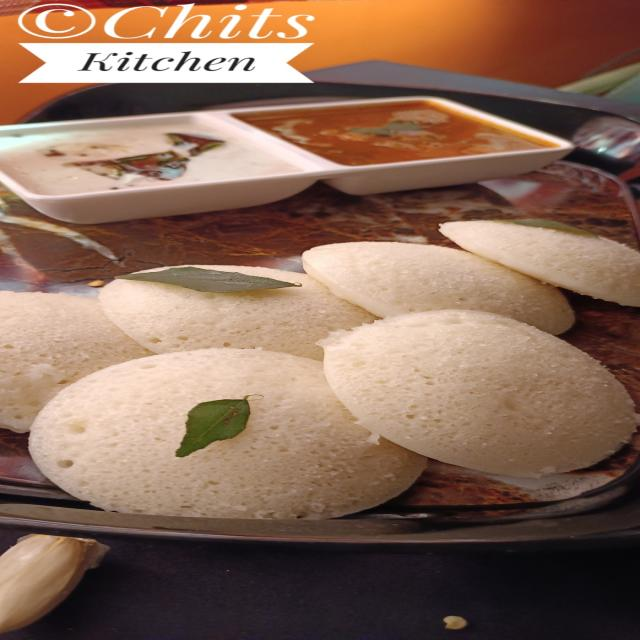IDLI: (39, 356, 412, 517), (327, 314, 635, 476), (313, 242, 577, 321), (131, 258, 343, 352), (453, 218, 639, 306)
